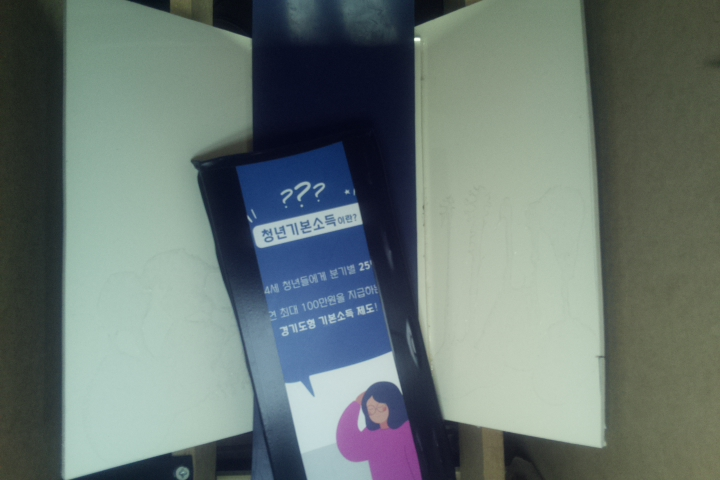book: (194, 134, 449, 480)
